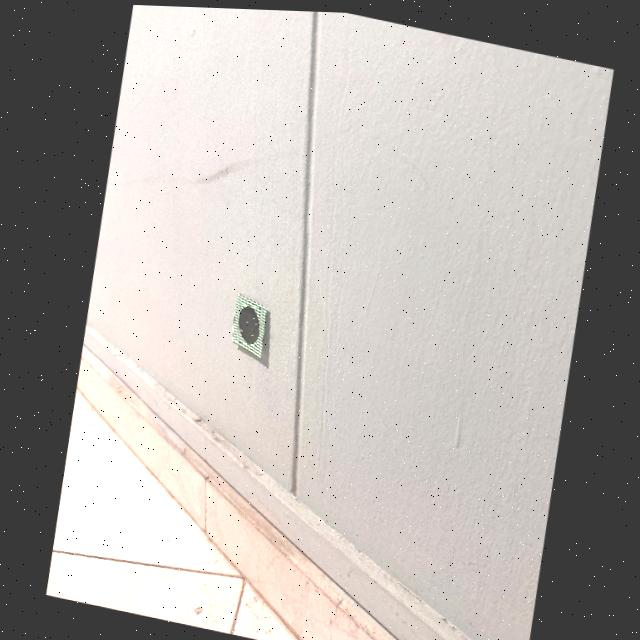CIRCLE: (236, 305, 257, 342)
